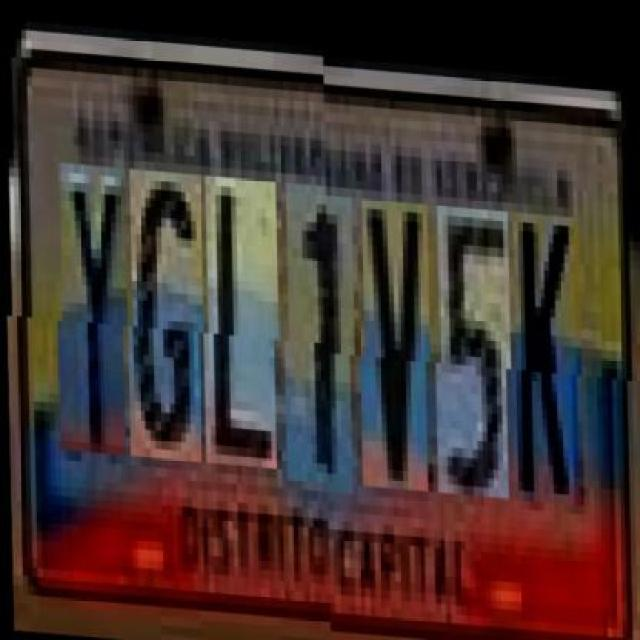1: (286, 187, 356, 488)
5: (436, 198, 512, 490)
g: (129, 176, 205, 469)
k: (512, 202, 582, 495)
l: (204, 181, 281, 473)
v: (361, 191, 432, 484)
y: (59, 170, 130, 462)
